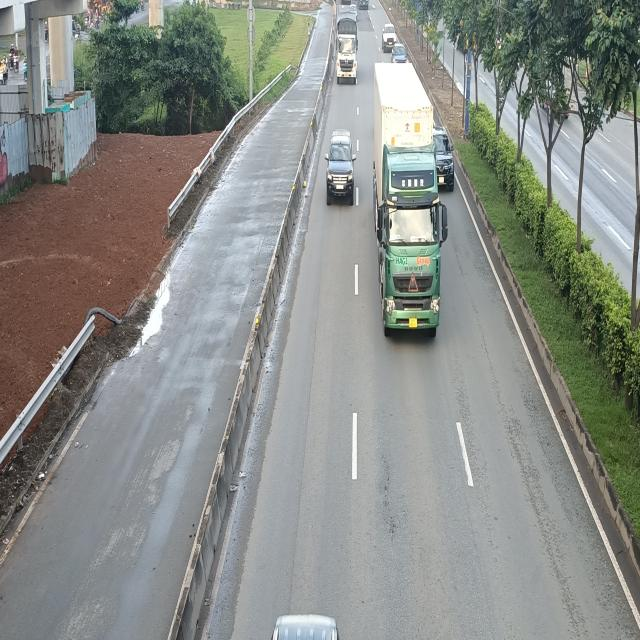car: (327, 128, 357, 204)
container: (371, 61, 446, 336)
truck: (336, 8, 359, 84)
